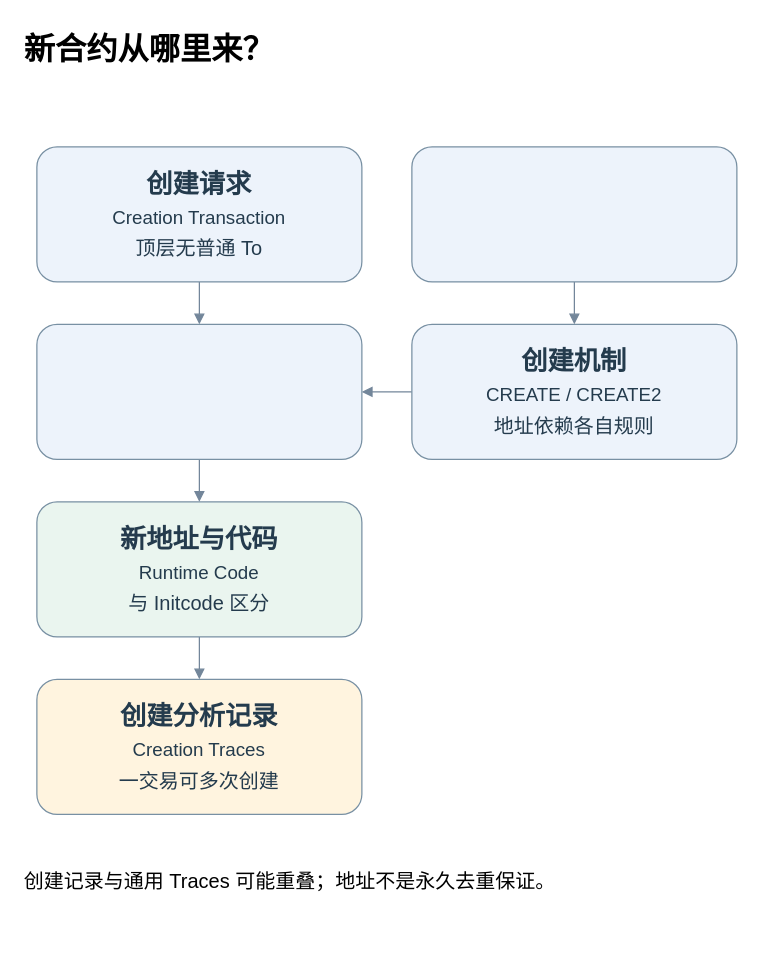
Image size: 773x969. Some labels were removed from this diagram. The centre of each missing label's shape, as x and y in pixels:
"初始化过程 Initcode 构造参数与初始状态" goes at point (199, 391).
"工厂执行 Factory Call 顶层 To 可以非空" goes at point (574, 214).
